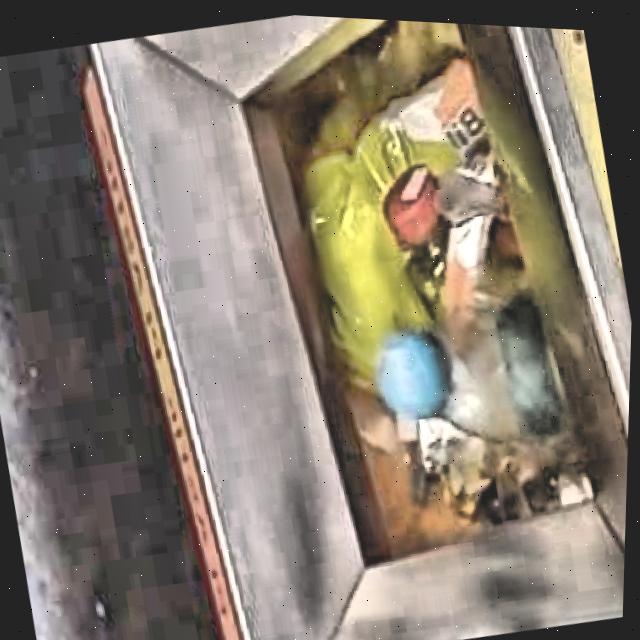plastic: (378, 294, 573, 434)
